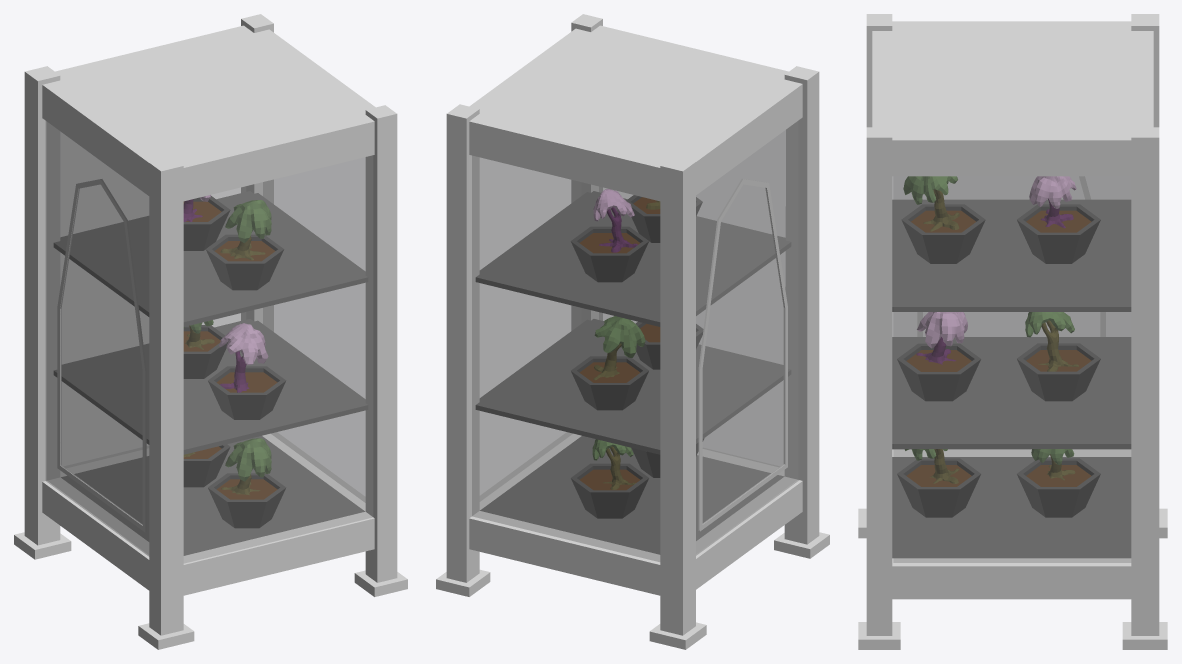
File: estufa2.fbx
3 views of the same model, side by side, from view 1: azimuth 30°, elevation 25°; view 2: azimuth 150°, elevation 25°; view 3: azimuth 270°, elevation 25° (orthographic). The views are drawn at different scales.
Visible parts, largest first — view 1: estufa2; view 2: estufa2; view 3: estufa2.
Part boxes in pixels (x1,y1,x2,y2): estufa2: (14,14,407,649); estufa2: (436,14,829,649); estufa2: (858,14,1167,649).
Bounding box in the file's own units: 1.1 × 1.99 × 1.1.
